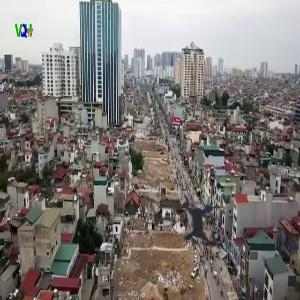drone: (146, 169, 260, 283)
